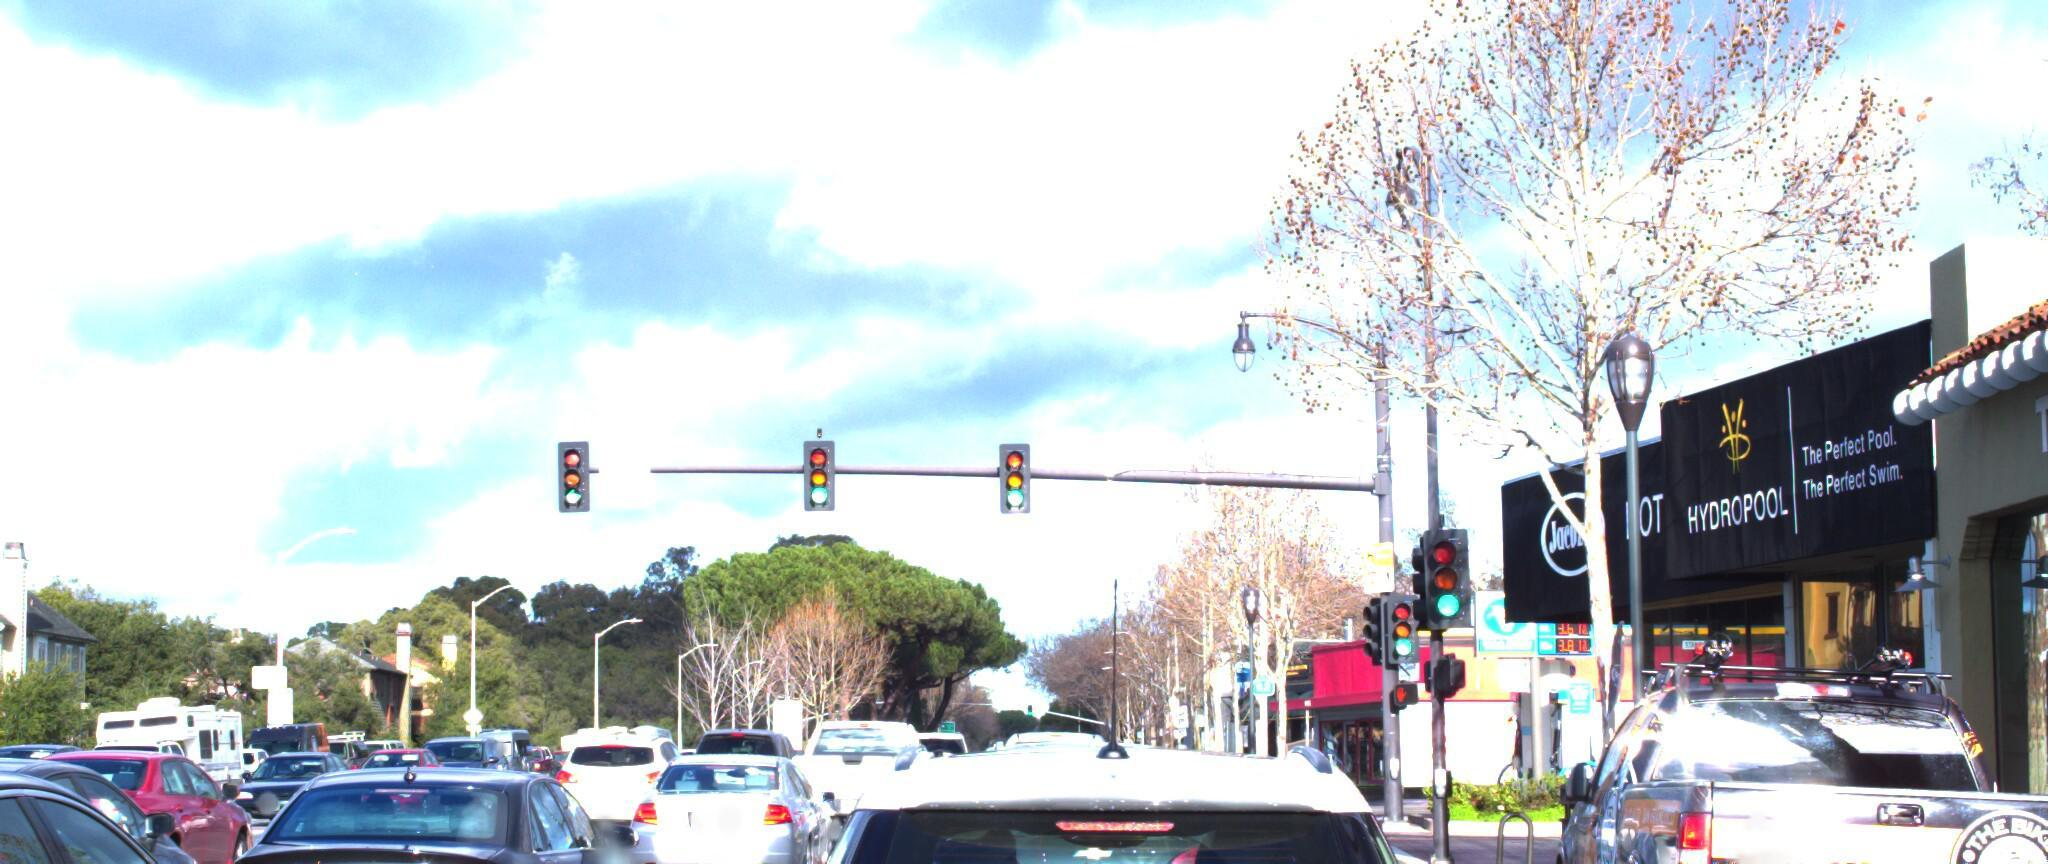car: (1492, 619, 2048, 864), (647, 747, 1557, 864), (882, 727, 1277, 864), (168, 766, 674, 864), (0, 750, 276, 864), (609, 737, 848, 864), (0, 754, 242, 864), (773, 703, 943, 842), (0, 790, 315, 864), (993, 709, 1121, 854), (545, 727, 704, 838), (221, 739, 363, 817), (329, 733, 457, 801), (914, 719, 999, 783)
